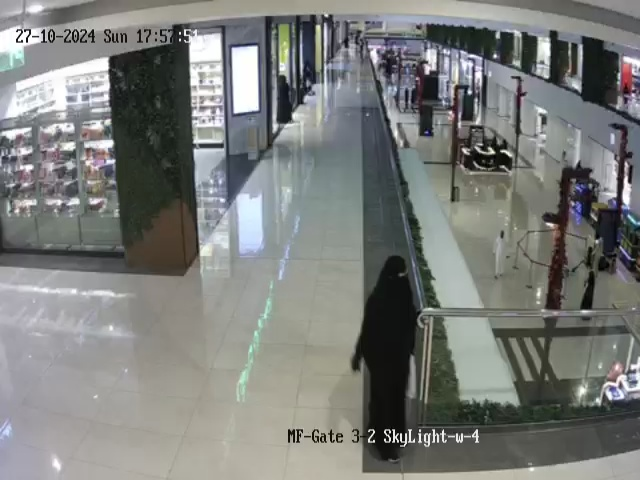female: (351, 255, 419, 465), (277, 75, 293, 124)
